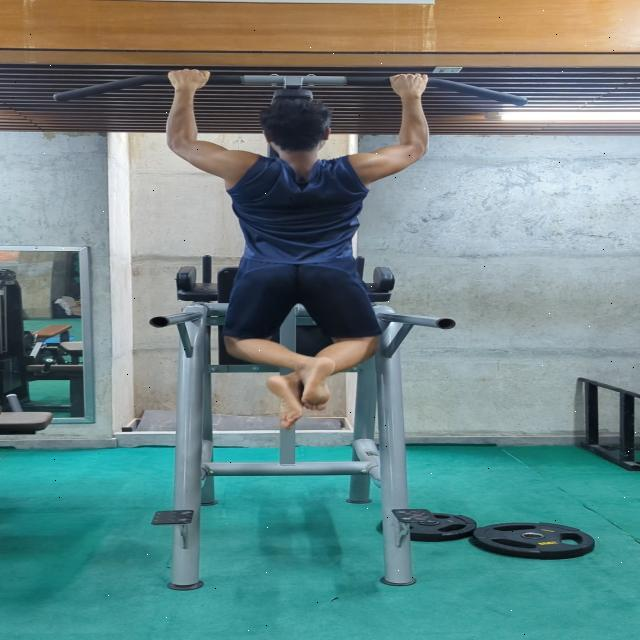Normal_PullUps: (162, 67, 440, 431)
